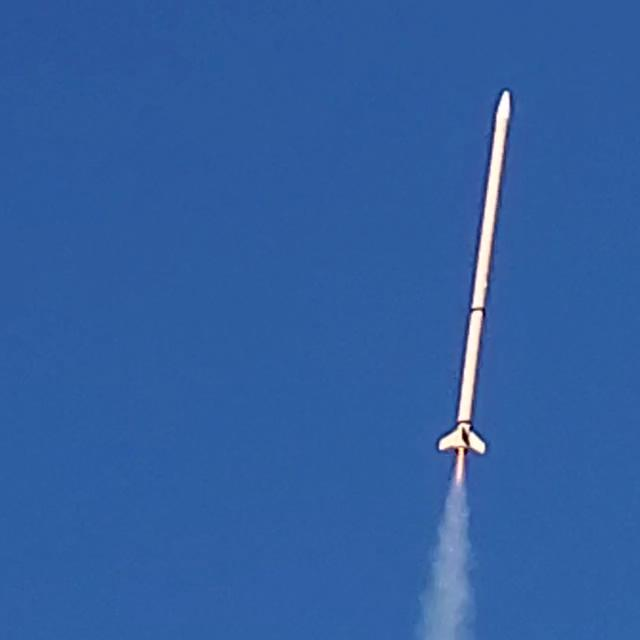rocket: (436, 91, 513, 477)
